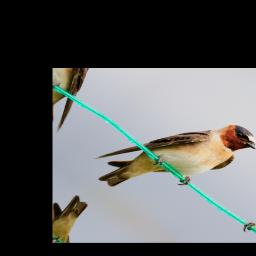Swallow: (81, 87, 256, 223)
